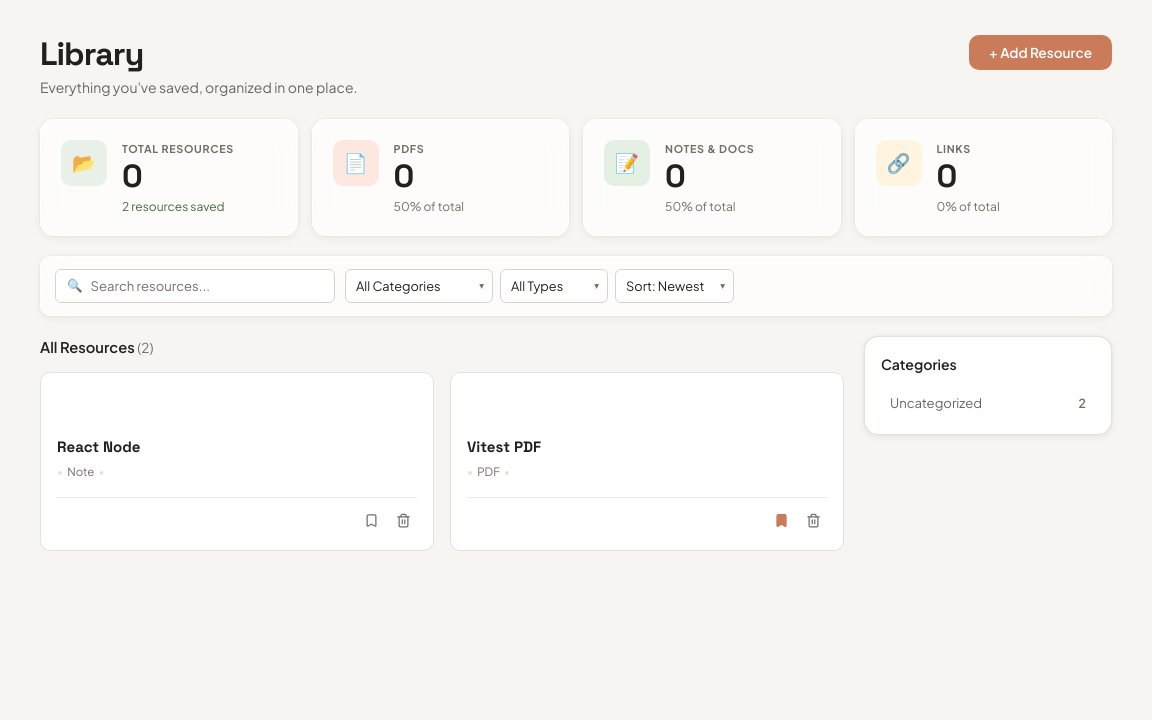
Library Component › filters resources by search query
Type "React" into the search field with placeholder "Search resources..." at (207, 286), box top-left (91, 278), bottom-right (323, 294)
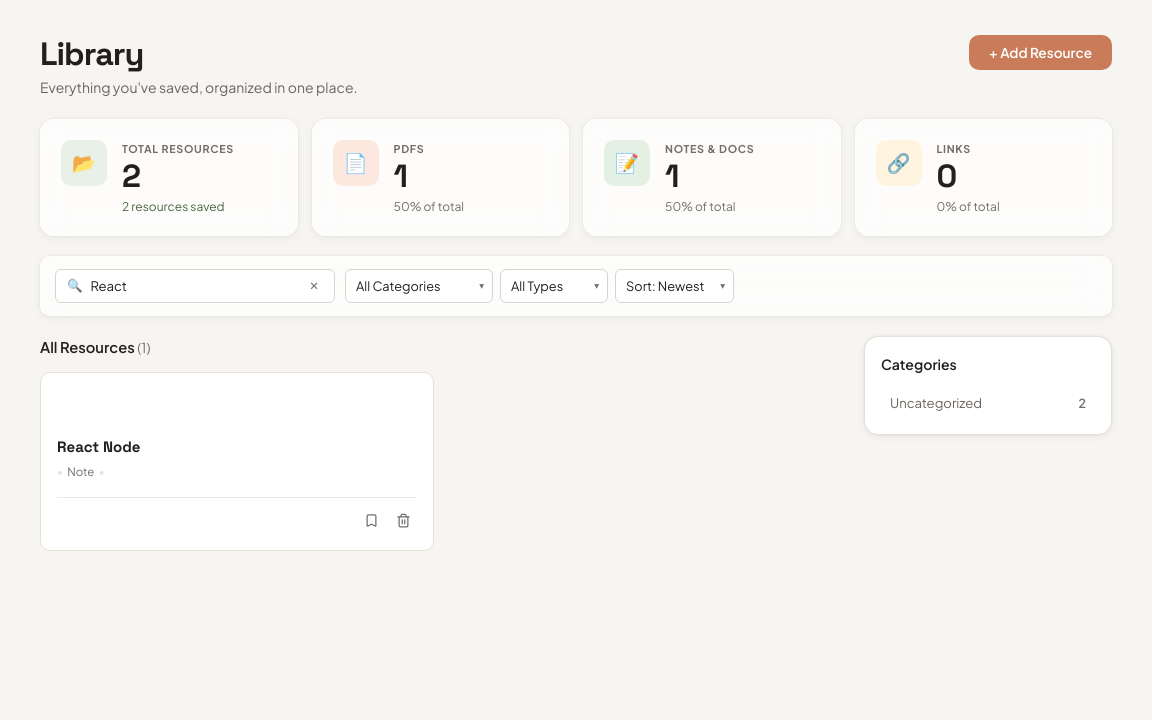
Expected: the text "React Node" is shown, top-left (57, 436), bottom-right (140, 456)
Now the button "Vitest PDF" is gone
